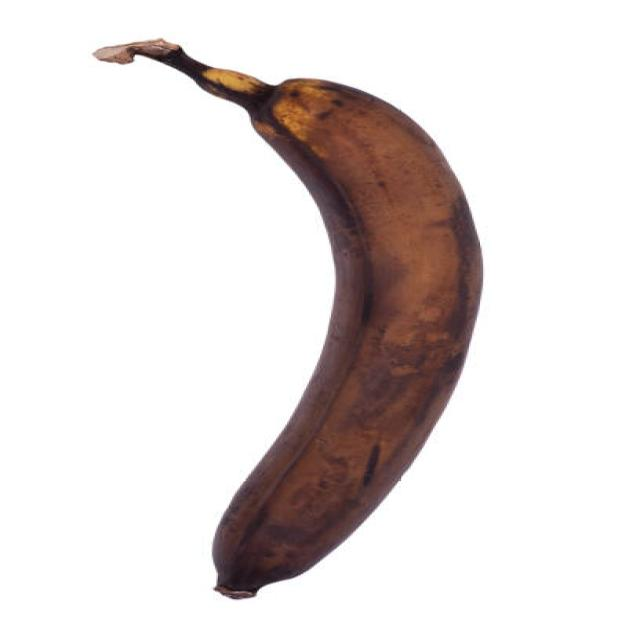Rotten: (90, 34, 486, 602)
